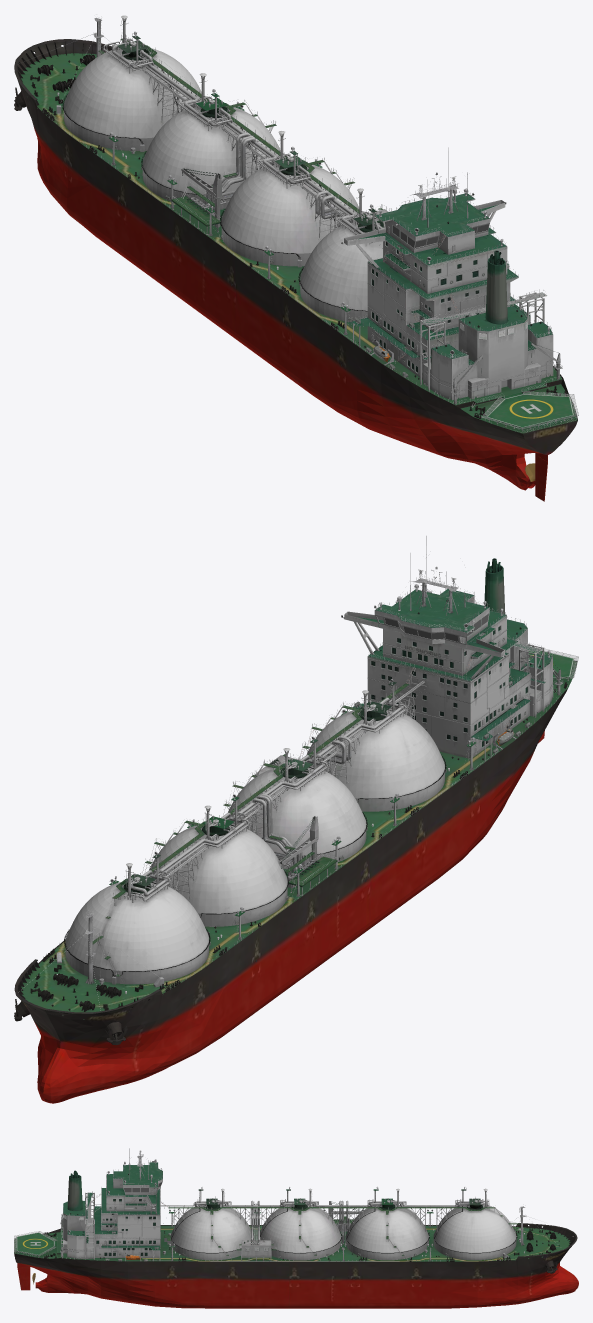
Rendered from lngcarrier.glb.
3 renders of one model, top to bottom at view 1: azimuth 30°, elevation 25°; view 2: azimuth 150°, elevation 25°; view 3: azimuth 270°, elevation 25°, orthographic. The views are drawn at different scales.
Size of the model in its own units: 55.37 by 89.52 by 295.
16 materials, 13 textured.
